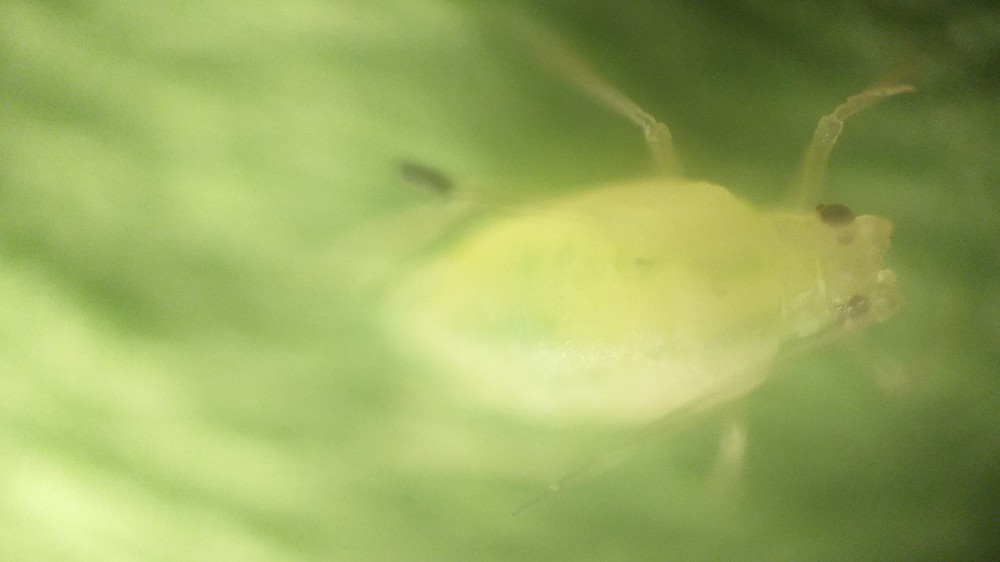Pulgon: (294, 26, 990, 538)
